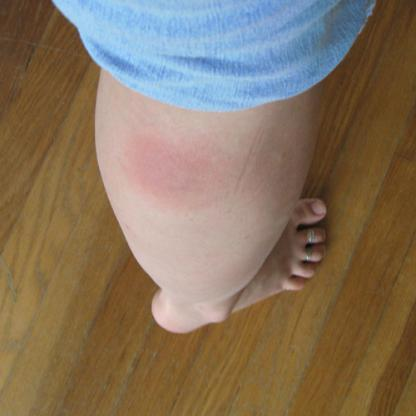Tick: (119, 119, 234, 220)
